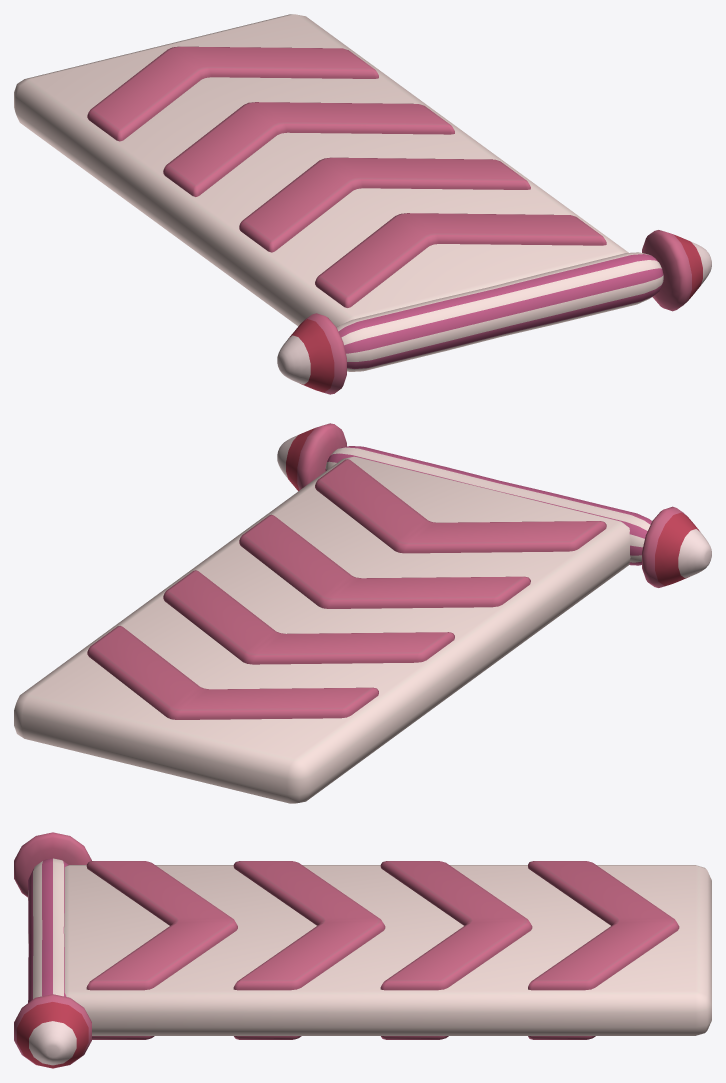
Rendered from candy_platform5.fbx.
3 views of the same model, one above another, from view 1: azimuth 30°, elevation 25°; view 2: azimuth 150°, elevation 25°; view 3: azimuth 270°, elevation 25° (orthographic). The views are drawn at different scales.
Visible parts, largest first — view 1: candy_platform5; view 2: candy_platform5; view 3: candy_platform5.
Boxes of the visible parts, bbox=[...] form: candy_platform5: bbox=[14, 14, 711, 394]; candy_platform5: bbox=[14, 423, 711, 803]; candy_platform5: bbox=[14, 832, 711, 1068].
Bounding box in the file's own units: 290 × 48.56 × 424.
1 material, 1 textured.
